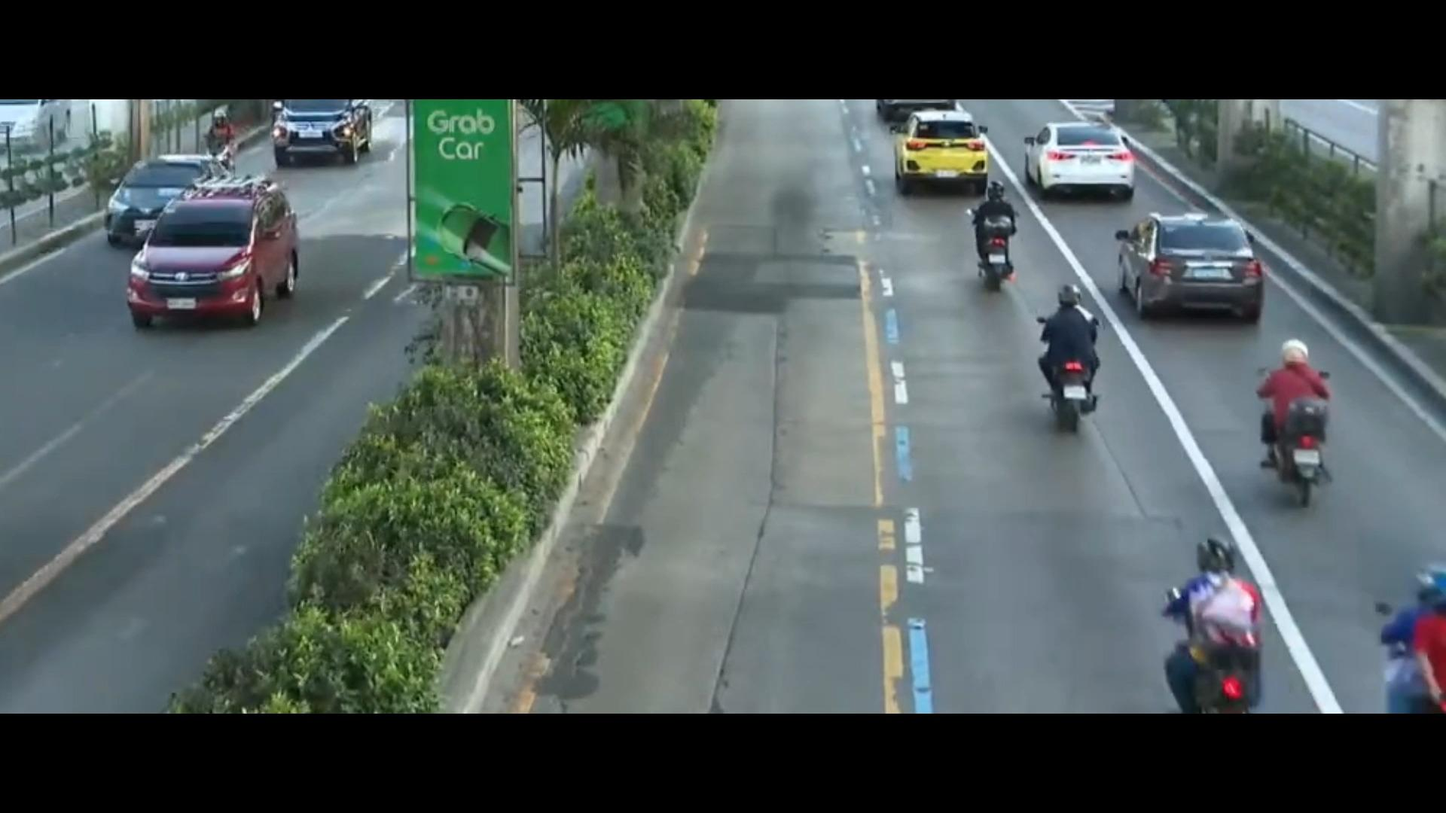Motorcycle: (1140, 507, 1281, 723), (1259, 322, 1381, 511), (1007, 287, 1125, 448), (955, 151, 1040, 302), (1376, 540, 1446, 721), (188, 83, 244, 169)
SUV: (108, 164, 309, 350), (273, 93, 380, 169)
Sedan: (1106, 189, 1273, 332), (94, 139, 221, 243), (1027, 101, 1135, 214), (897, 101, 1007, 206)
